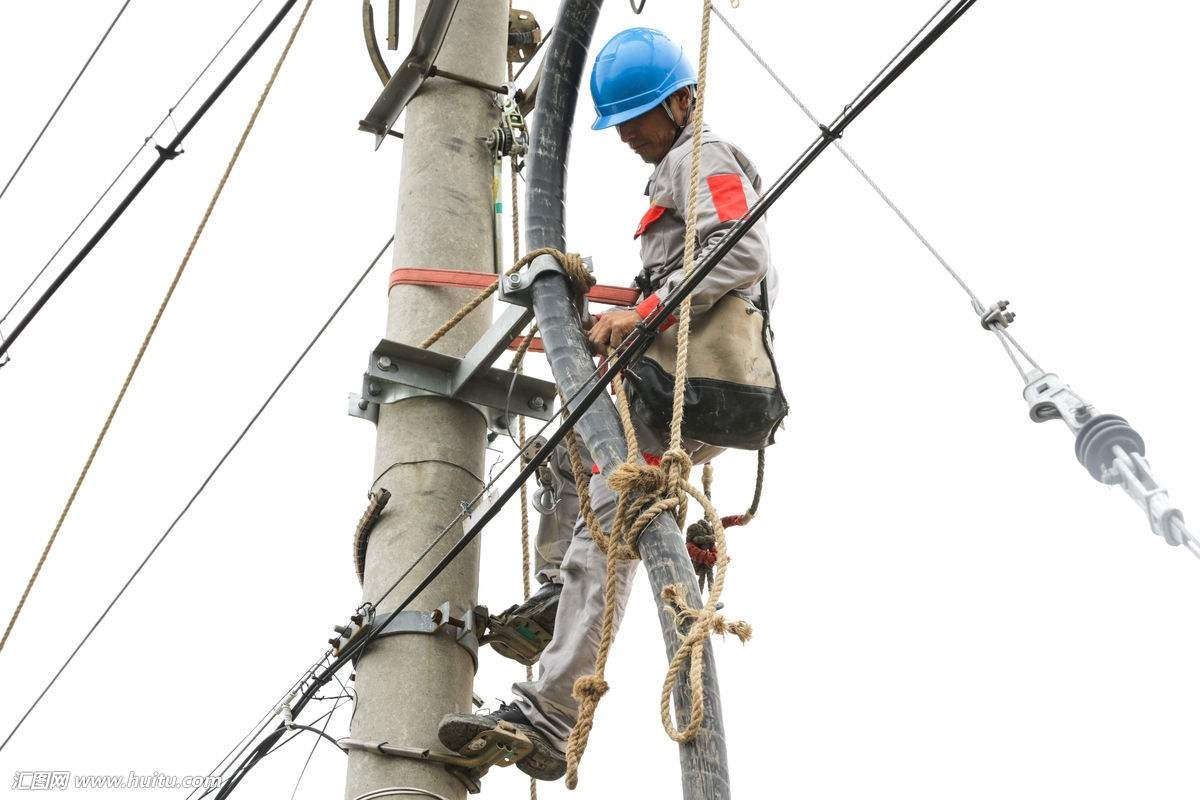blue: (582, 19, 705, 171)
